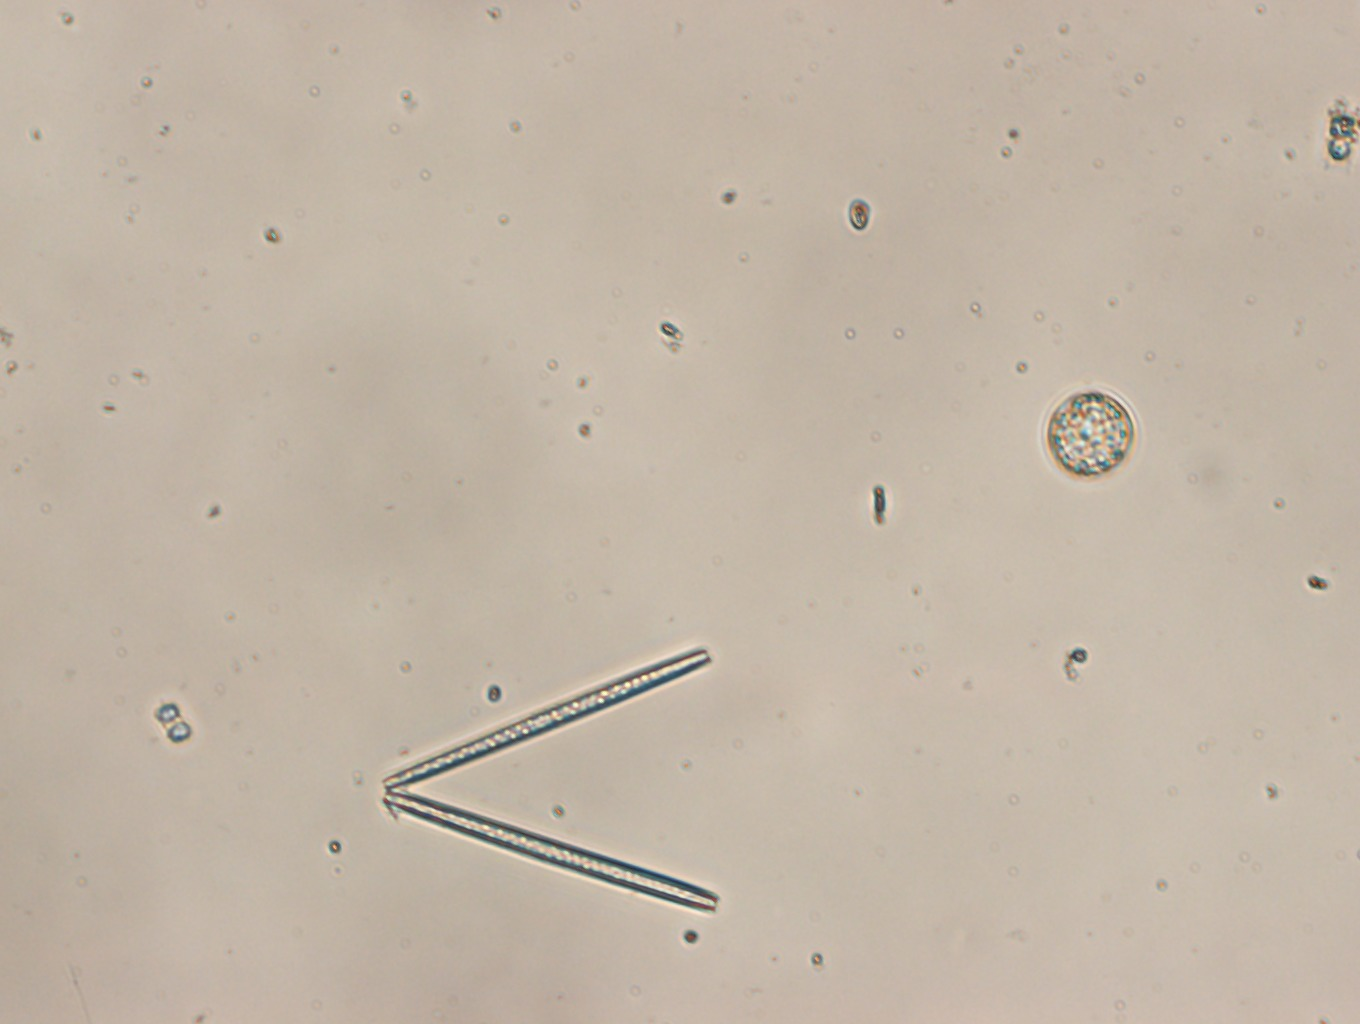thalassionema nitzschioides: (380, 648, 722, 916)
